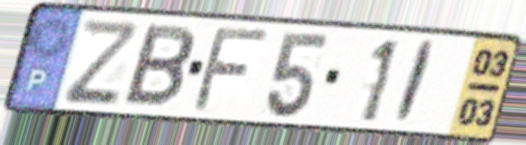1: (360, 37, 402, 124)
5: (263, 29, 333, 121)
B: (119, 21, 198, 111)
F: (187, 26, 276, 115)
I: (389, 38, 441, 127)
Z: (60, 16, 140, 105)
